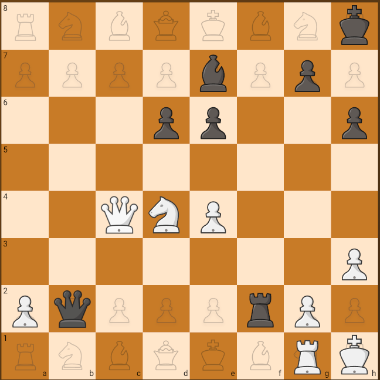bb: (191, 50, 238, 97)
bk: (333, 2, 377, 47)
bp: (288, 55, 326, 96), (197, 102, 234, 144), (337, 102, 371, 141)
bq: (49, 288, 94, 328)
br: (240, 286, 282, 330), (147, 101, 184, 140)
wk: (336, 334, 373, 377)
wn: (145, 194, 182, 235)
wp: (5, 290, 43, 330), (335, 242, 370, 285), (290, 292, 327, 329), (195, 198, 230, 236)
wq: (96, 192, 140, 235)
wr: (287, 338, 328, 376)
